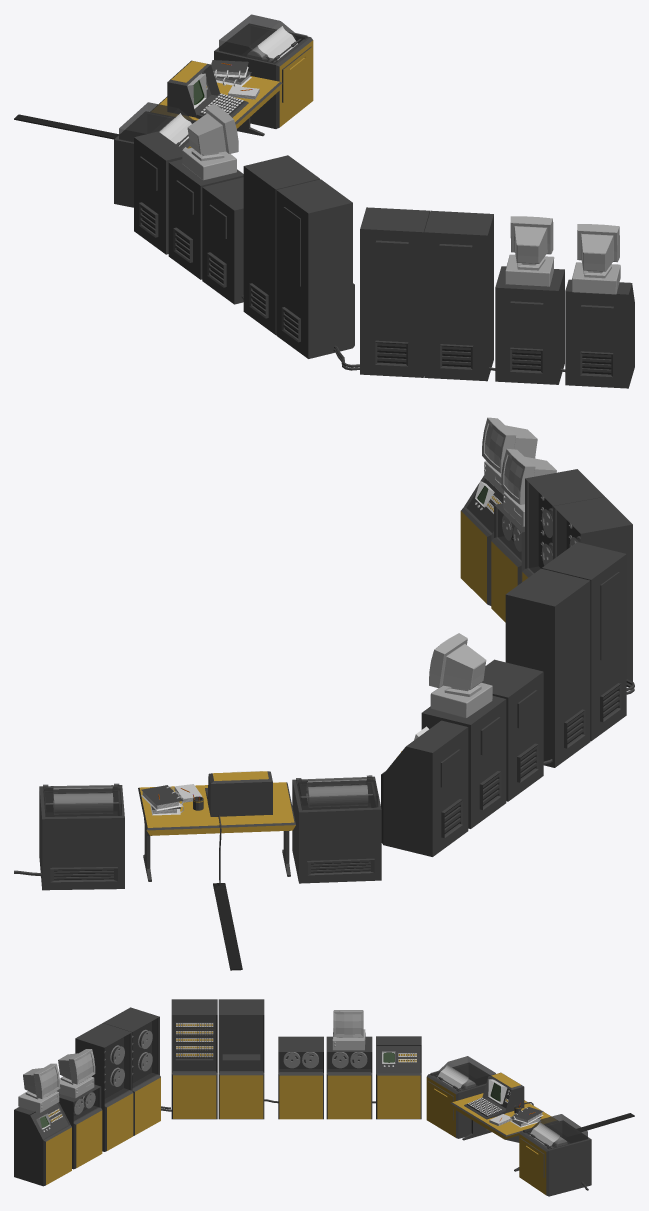
The model's file is controlRoom_01.fbx.
The picture shows the model from 3 angles, top to bottom: view 1: azimuth 30°, elevation 25°; view 2: azimuth 150°, elevation 25°; view 3: azimuth 270°, elevation 25°; orthographic projection. The views are drawn at different scales.
Parts seen in each view (by area): view 1: polySurface350, polySurface607, polySurface597, polySurface103, polySurface666, polySurface625, polySurface617, polySurface99, polySurface54, Computer2:Computer, computer_1, Computer1:Computer (+20 smaller); view 2: polySurface103, polySurface54, polySurface1, polySurface617, polySurface350, polySurface53, polySurface597, polySurface99, polySurface607, Computer2:Computer, polySurface95, polySurface625 (+12 smaller); view 3: polySurface103, polySurface350, polySurface607, polySurface617, polySurface99, polySurface625, polySurface597, polySurface54, polySurface95, polySurface1, polySurface666, Computer1:Computer (+12 smaller).
Part boxes in pixels (x1,y1,x2,y2): polySurface350: (276,179,354,358); polySurface607: (424,210,493,381); polySurface597: (360,207,429,377); polySurface103: (243,155,319,334); polySurface666: (495,266,564,384); polySurface625: (565,279,634,388); polySurface617: (214,24,313,128); polySurface99: (202,177,243,304); polySurface54: (134,131,182,254); Computer2:Computer: (182,103,238,180); computer_1: (505,216,554,286); Computer1:Computer: (572,224,620,294); polySurface103: (505,568,590,767); polySurface54: (381,720,468,856); polySurface1: (292,776,381,883); polySurface617: (39,785,124,890); polySurface350: (542,542,626,741); polySurface53: (138,782,295,881); polySurface597: (553,497,632,686); polySurface99: (481,659,543,801); polySurface607: (522,469,604,581); Computer2:Computer: (429,633,492,718); polySurface95: (421,696,506,828); polySurface625: (460,475,503,605); polySurface103: (218,999,264,1119); polySurface350: (171,999,217,1119); polySurface607: (75,1023,133,1151); polySurface617: (519,1121,591,1196); polySurface99: (278,1036,323,1119); polySurface625: (14,1102,71,1186); polySurface597: (103,1007,160,1135); polySurface54: (376,1036,421,1119); polySurface95: (326,1036,372,1119); polySurface1: (426,1063,489,1138); polySurface666: (59,1084,102,1169); Computer1:Computer: (18,1063,60,1112).
Bounding box in the file's own units: 18.89 × 10.02 × 52.72.
